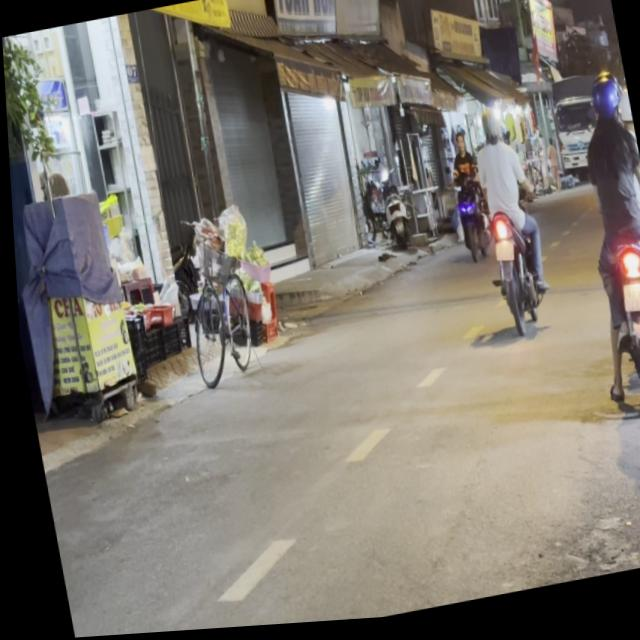helmet: (584, 79, 622, 134)
licenseplate: (549, 71, 640, 423), (459, 103, 552, 341)
motorcyclist: (475, 109, 503, 155)
nohelmet: (616, 287, 640, 320), (489, 245, 510, 268)
